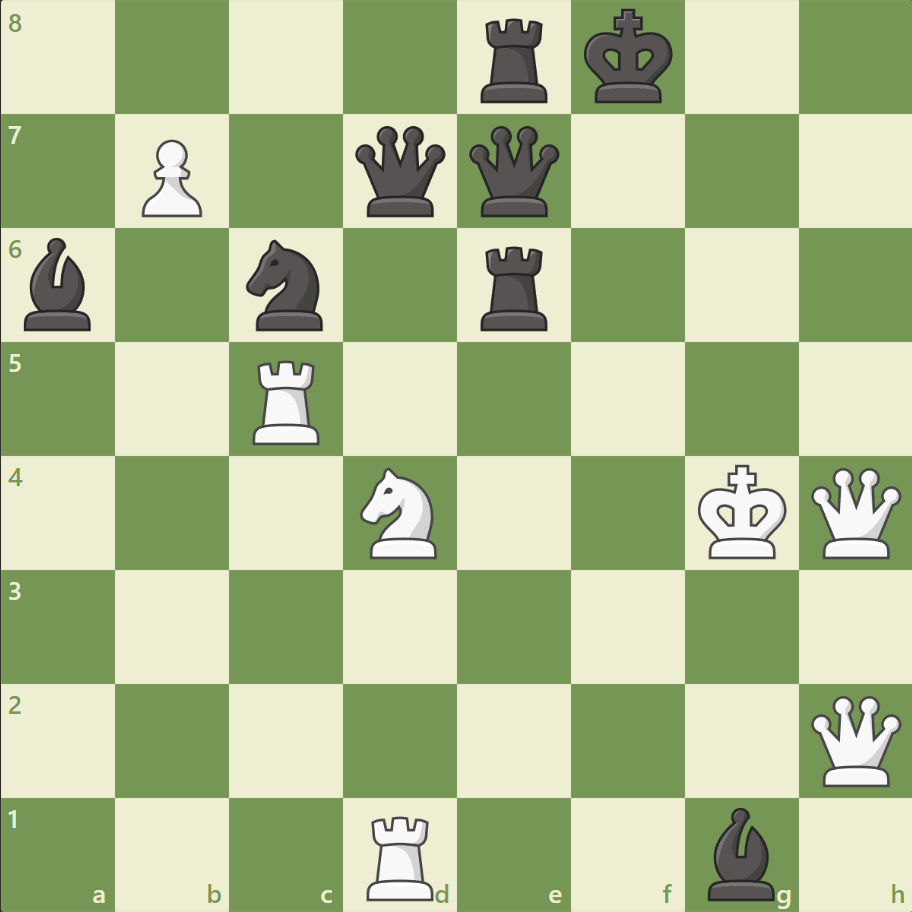K: (692, 458, 792, 566)
N: (351, 461, 449, 564)
P: (133, 132, 208, 223)
Q: (805, 463, 904, 562), (805, 690, 904, 789)
R: (246, 352, 329, 449), (360, 806, 442, 904)
b: (17, 233, 101, 336), (698, 801, 782, 904)
k: (579, 4, 679, 112)
n: (238, 234, 335, 337)
q: (351, 122, 450, 222), (464, 122, 563, 222)
r: (473, 12, 556, 109), (473, 239, 556, 336)
